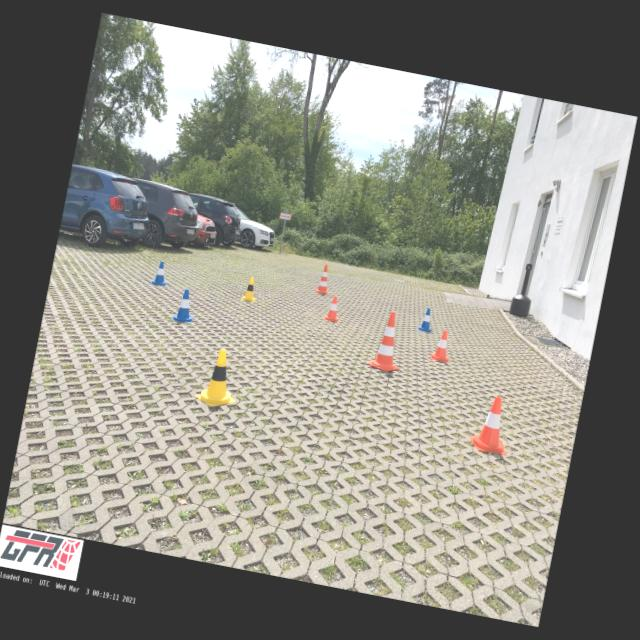blue_cone: (172, 288, 200, 324), (151, 260, 171, 288), (417, 307, 437, 333)
large_orange_cone: (367, 310, 409, 374), (316, 263, 334, 295)
orange_cone: (469, 392, 518, 456), (431, 329, 455, 363), (323, 294, 344, 324)
yellow_cone: (194, 346, 244, 411), (242, 276, 260, 302)
